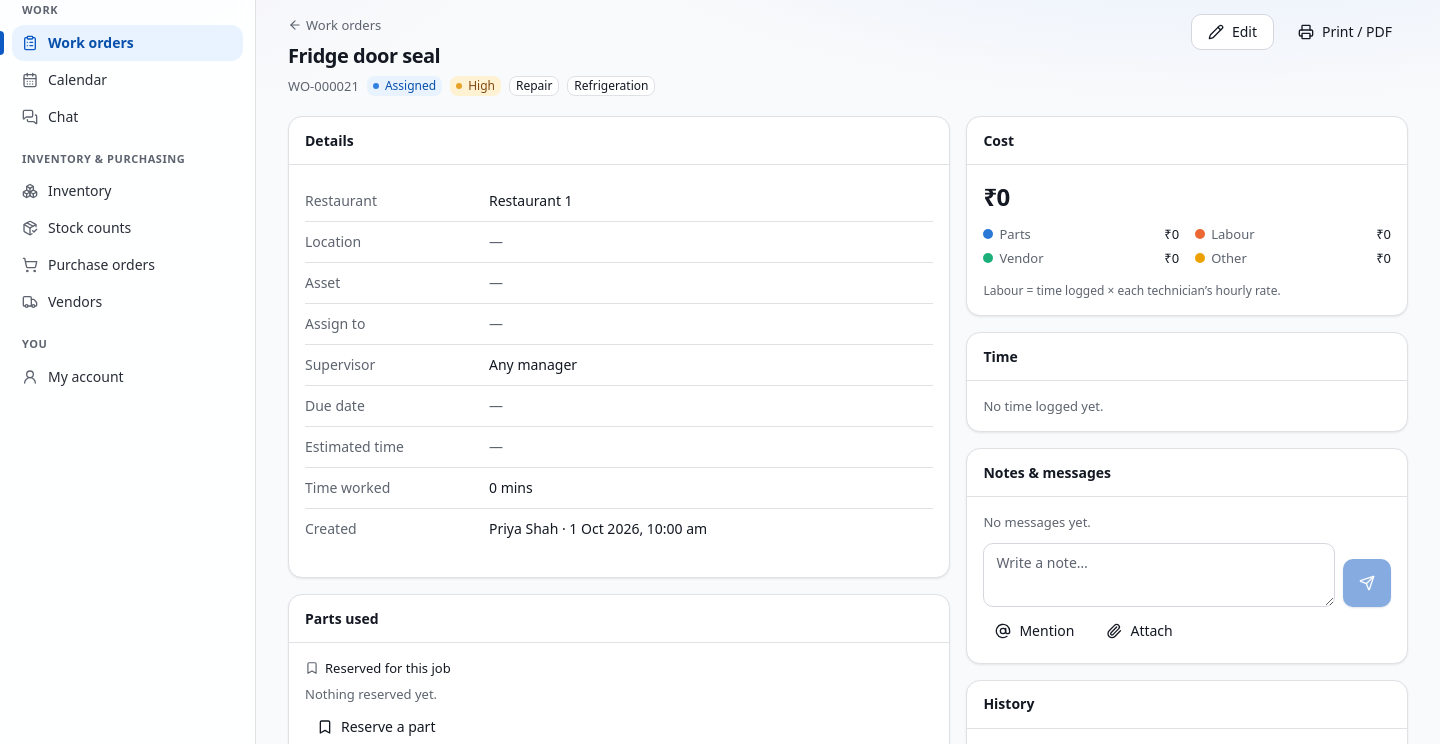
reservations on a planned job › reserves a part from what is available
Click the button "Reserve a part" at (376,727), box left=305, top=711, right=447, bottom=743
(page scrolled)
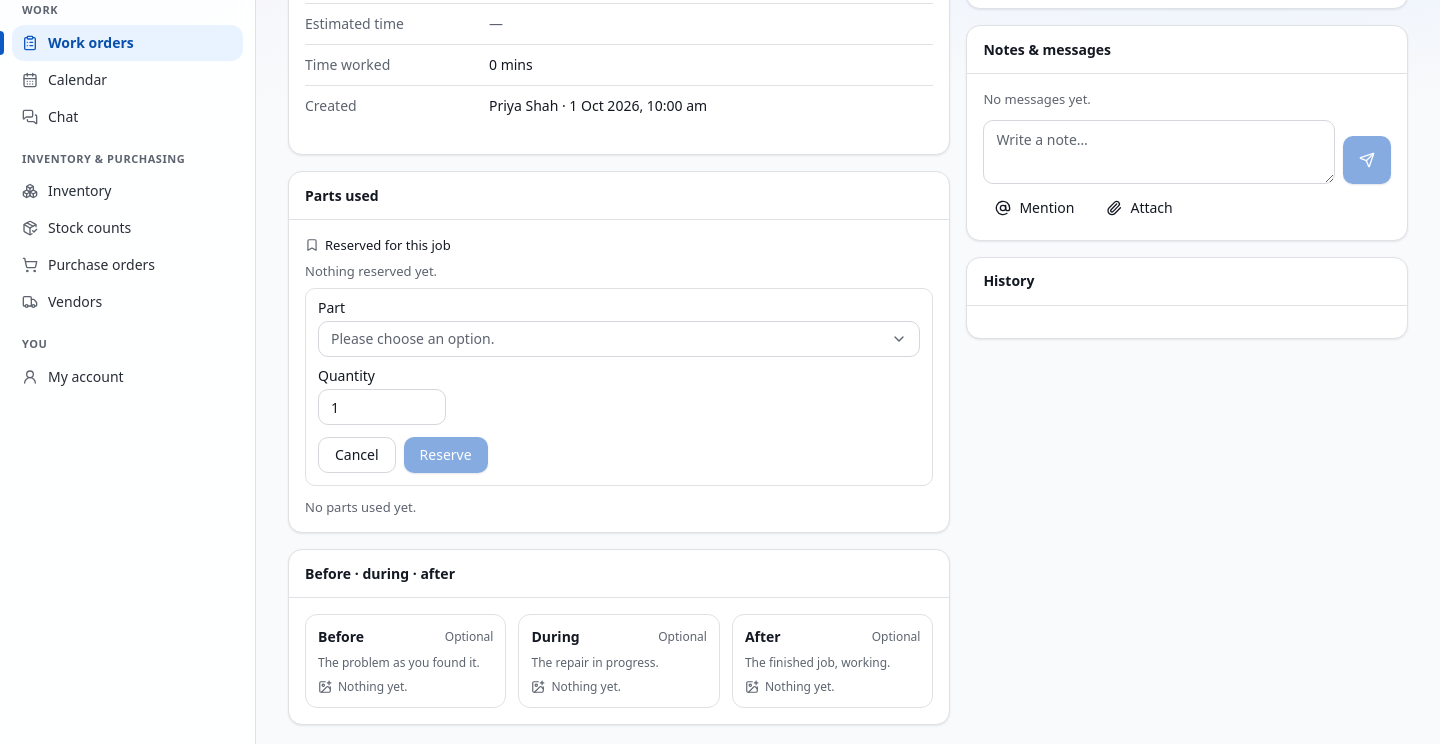
Click the dropdown named "Part" at (413,338), box left=318, top=321, right=920, bottom=357
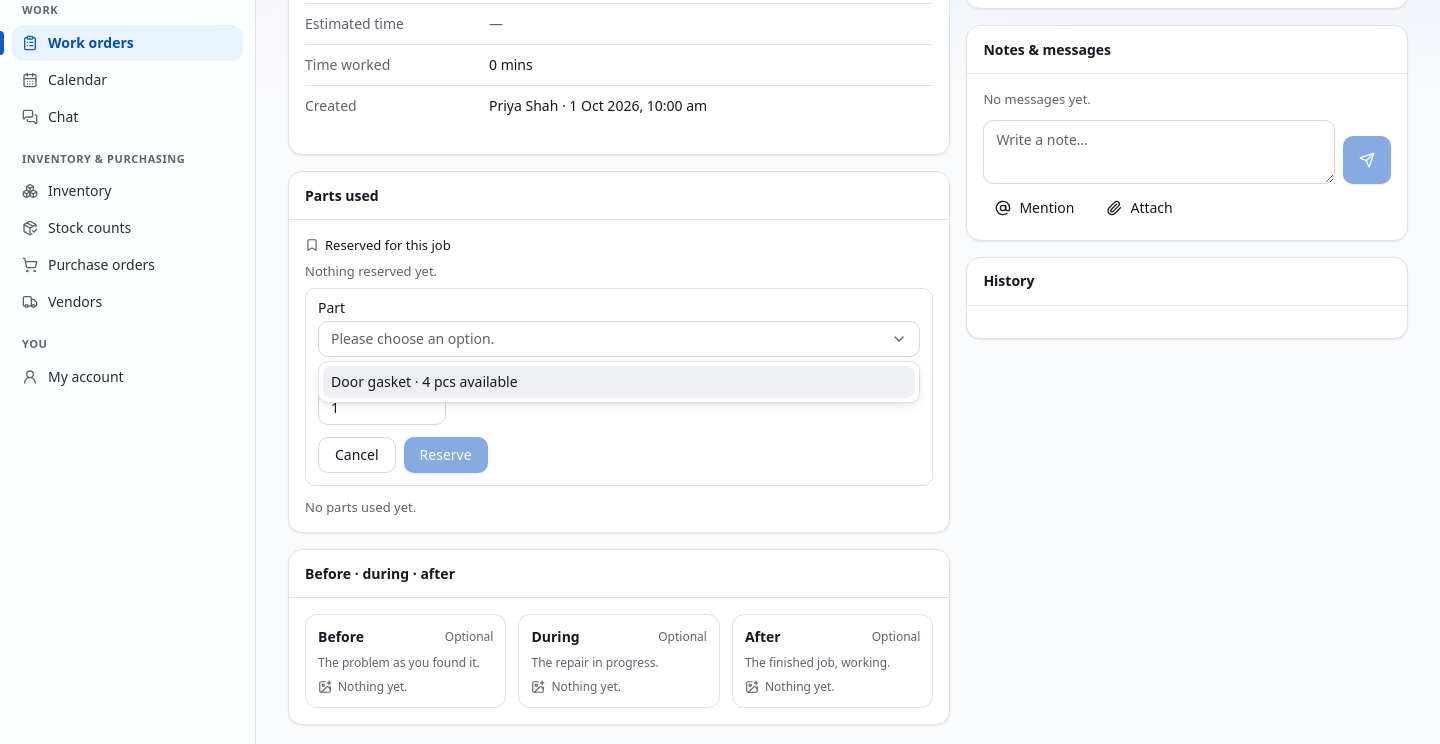
Click the option "Door gasket · 4 pcs available" at (371,382), box left=323, top=366, right=915, bottom=398
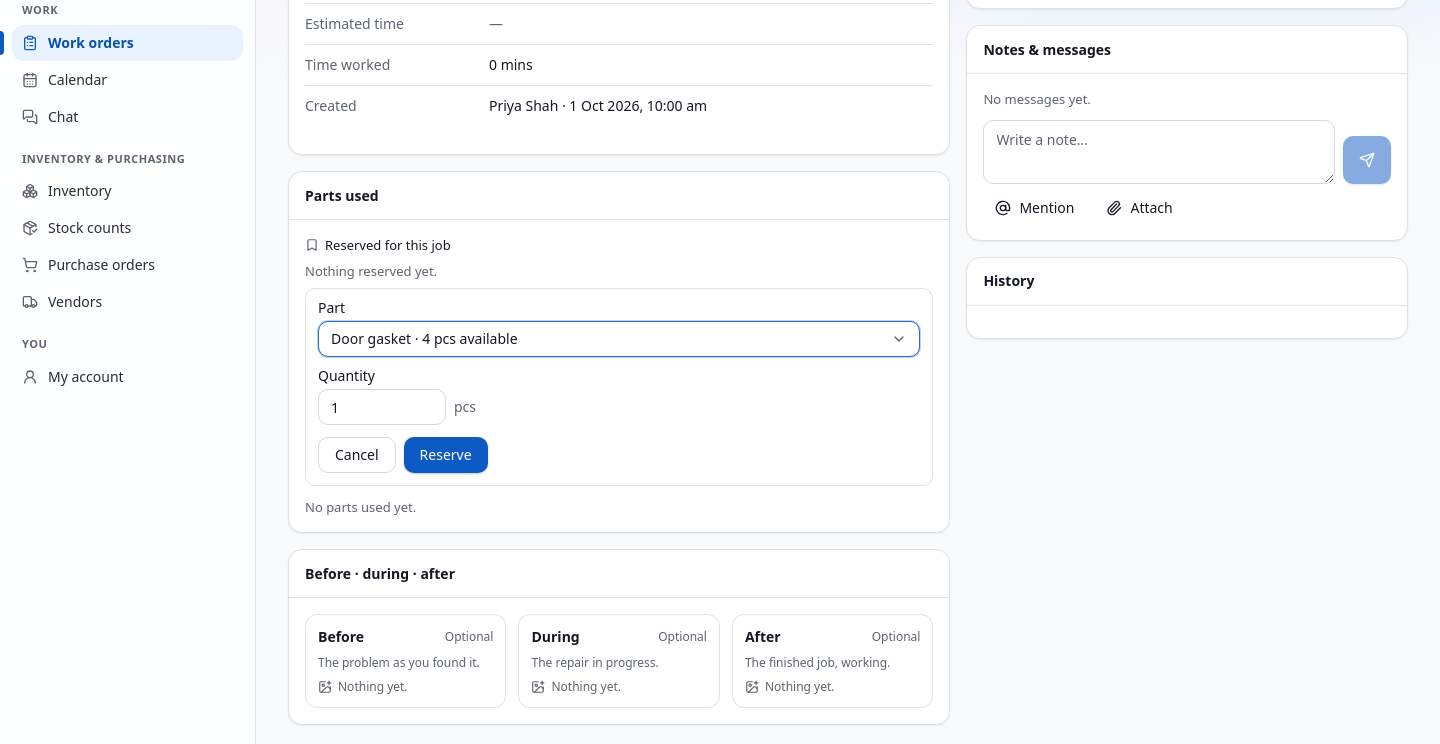
Replace the text in the number field labelled "Quantity" with "2" at (382,407), box left=318, top=389, right=446, bottom=425
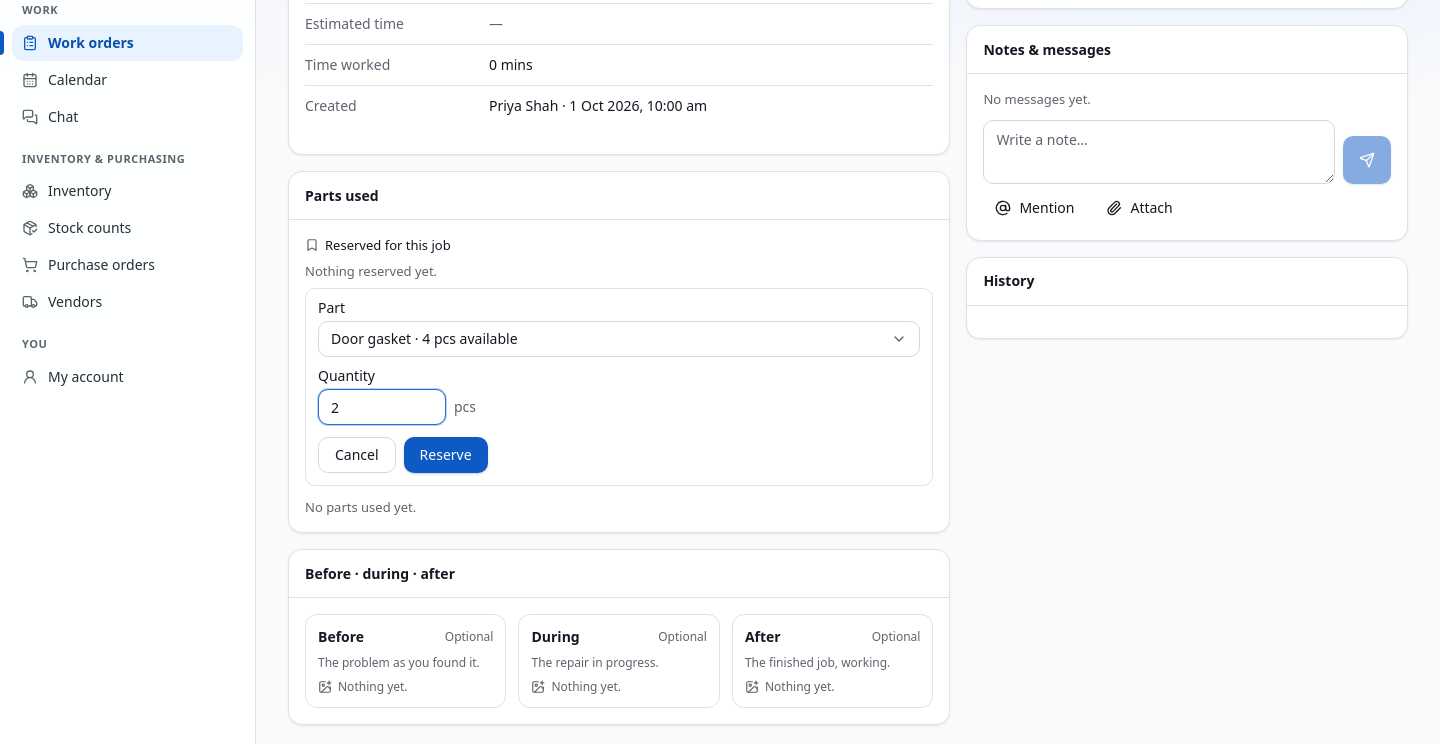
Click the button "Reserve" at (446,455), box left=404, top=437, right=488, bottom=473
(page scrolled)
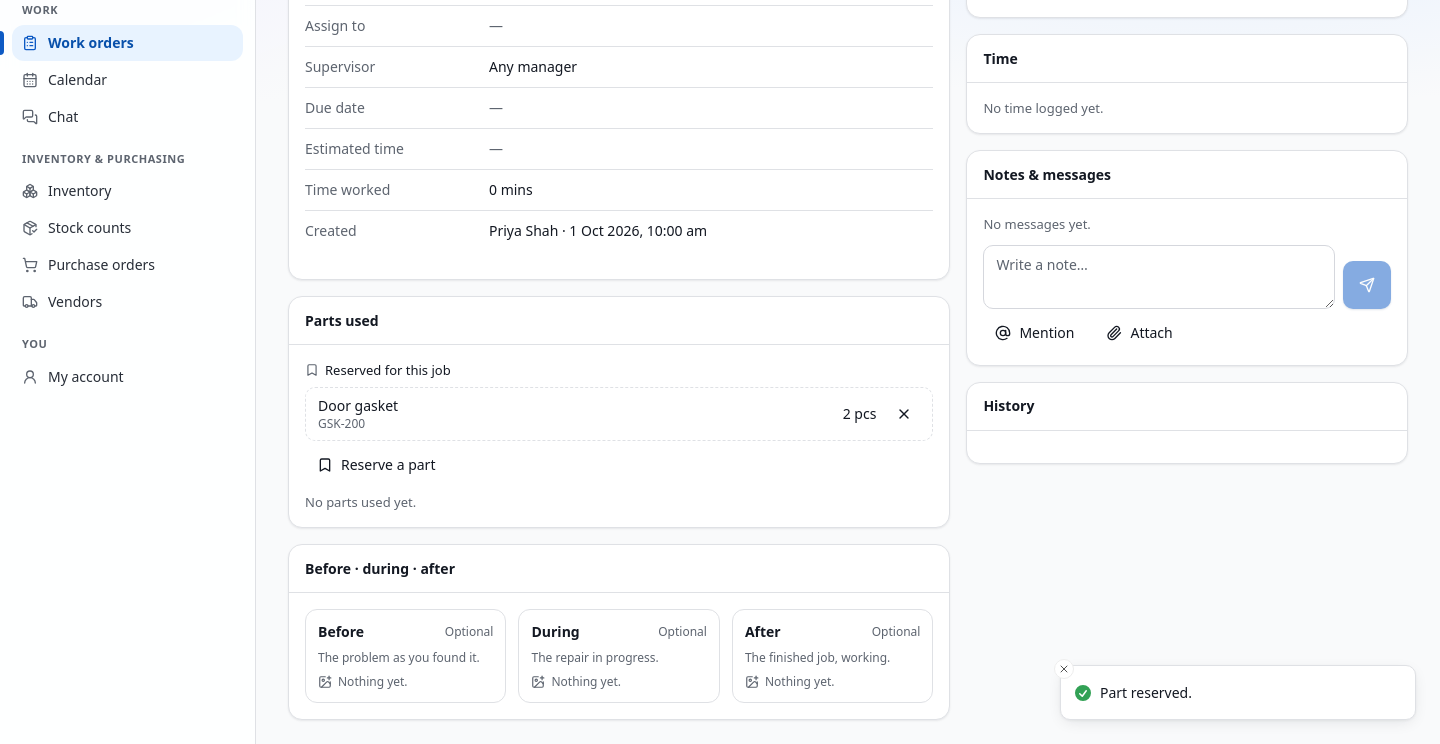
Expected: the button named "Release reservation for Door gasket" is shown, left=888, top=398, right=920, bottom=430
